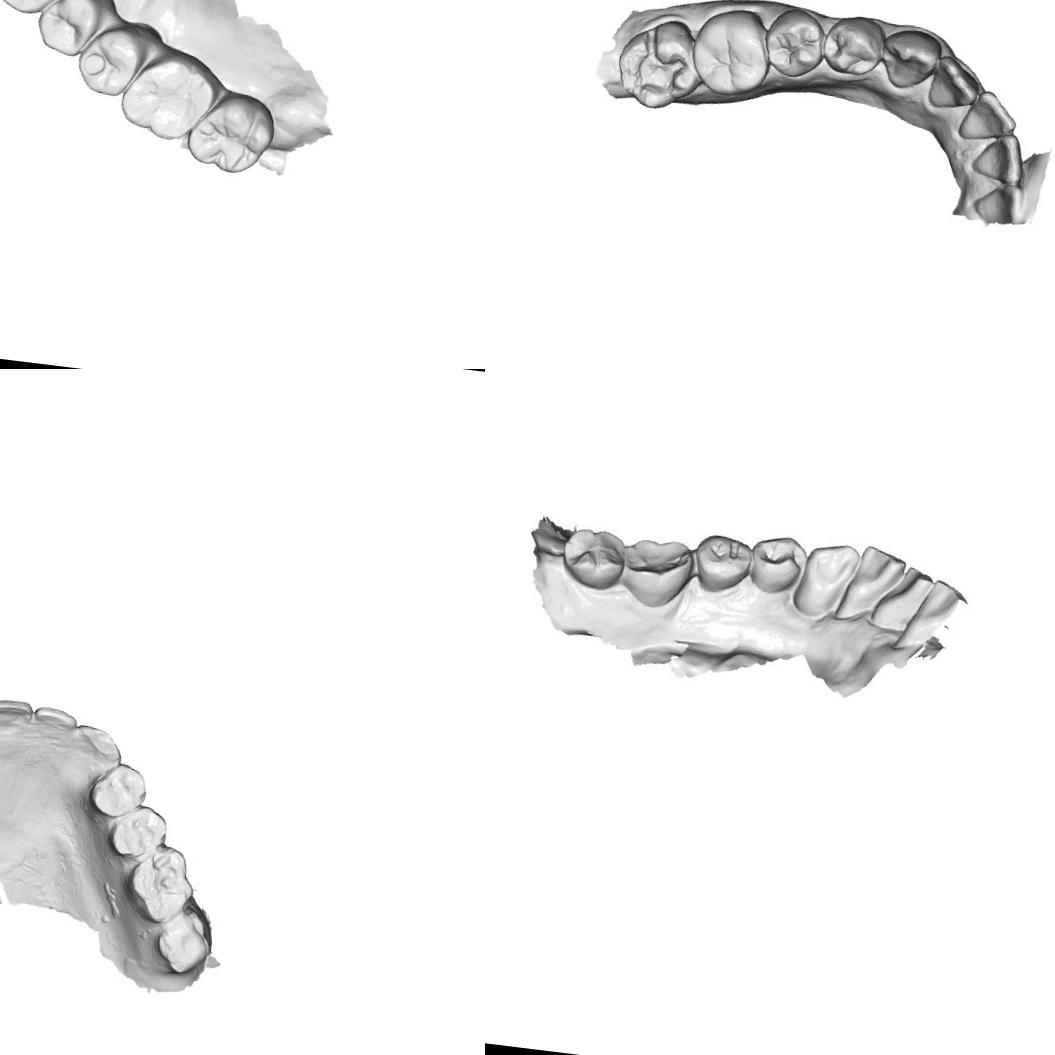canine: (790, 534, 865, 626), (877, 24, 944, 95), (68, 722, 126, 784), (0, 0, 82, 19)
incisor: (902, 578, 978, 662), (836, 537, 903, 619), (872, 553, 934, 638), (958, 85, 1019, 149), (924, 52, 983, 116), (967, 130, 1029, 185), (966, 179, 1030, 225), (30, 704, 81, 752), (0, 691, 35, 735)
inlay: (626, 24, 695, 106)
molar: (117, 47, 222, 148), (182, 85, 279, 179), (690, 3, 775, 100), (120, 841, 201, 928), (616, 532, 692, 614), (558, 519, 630, 595), (144, 911, 214, 980)
premolar: (72, 22, 150, 100), (761, 4, 830, 82), (819, 10, 888, 81), (690, 524, 756, 596), (33, 0, 107, 61), (83, 757, 152, 822), (106, 800, 171, 862), (747, 530, 808, 595)
